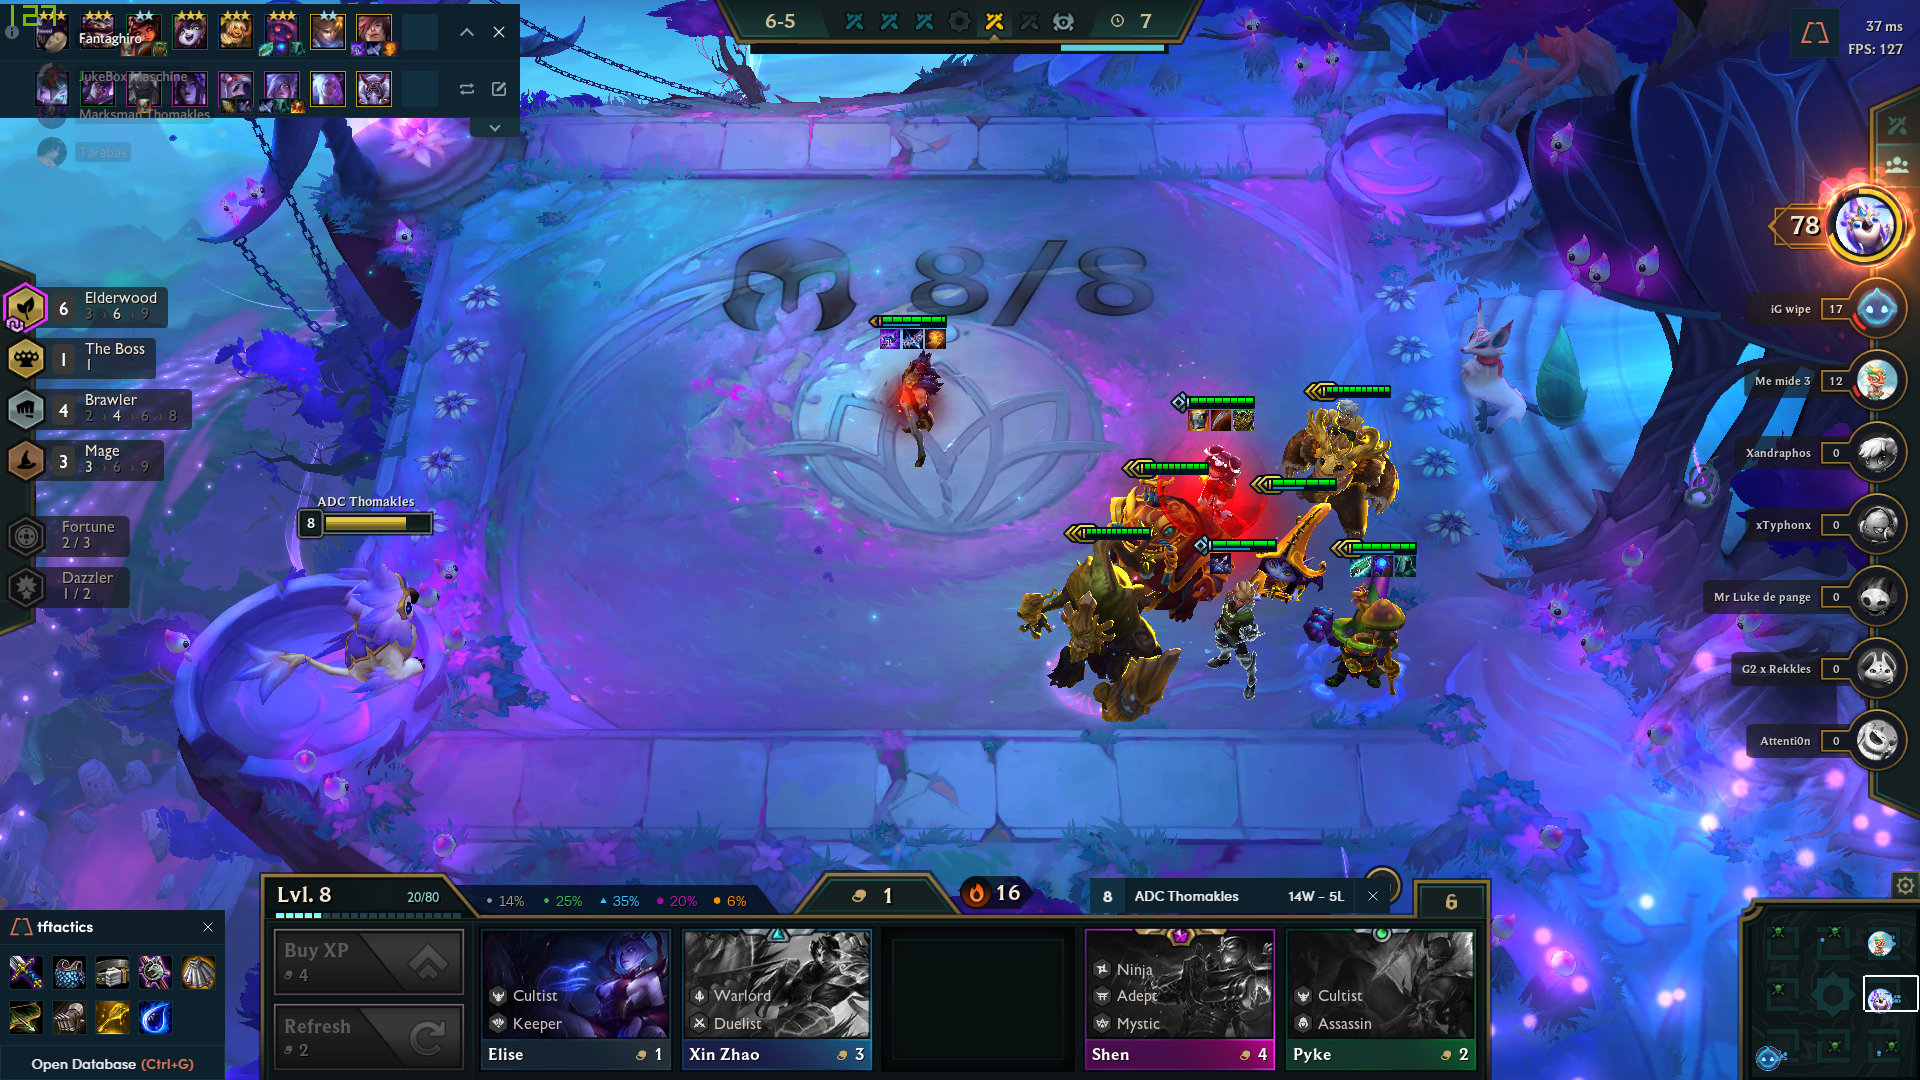1star_sett: (852, 302, 967, 483)
2star_annie: (1156, 377, 1270, 556)
2star_ezreal: (1178, 527, 1292, 708)
3star_lulu: (1233, 469, 1346, 621)
3star_maokai: (1004, 514, 1189, 738)
3star_nunu: (1263, 368, 1418, 551)
3star_tahmkench: (1069, 447, 1254, 632)
3star_veigar: (1294, 531, 1445, 721)
item_bluebuff: (1367, 550, 1395, 579)
item_dclaw: (1207, 405, 1234, 434)
item_gargoyle: (1185, 406, 1212, 435)
item_gunblade: (1346, 553, 1374, 582)
item_hoj: (923, 326, 949, 355)
item_lastwhisper: (1207, 549, 1233, 578)
item_luden: (876, 324, 903, 353)
item_quicksilver: (1393, 553, 1419, 582)
item_spark: (899, 323, 927, 352)
item_warmogs: (1230, 405, 1257, 434)
trait_brawler4: (1, 382, 204, 435)
trait_dazzler1: (1, 556, 204, 608)
trait_elderwood6: (1, 281, 204, 334)
trait_elderwood_chosen: (1, 281, 54, 334)
trait_fortune2: (1, 512, 204, 564)
trait_mage3: (1, 433, 204, 484)
trait_theboss: (1, 334, 204, 386)
